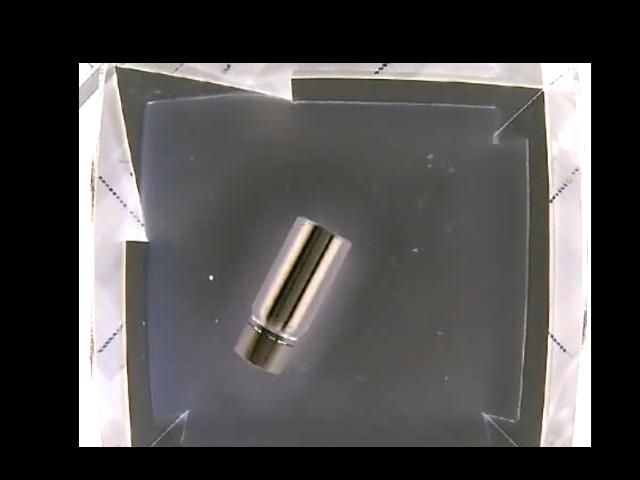Bottle: (231, 215, 351, 371)
